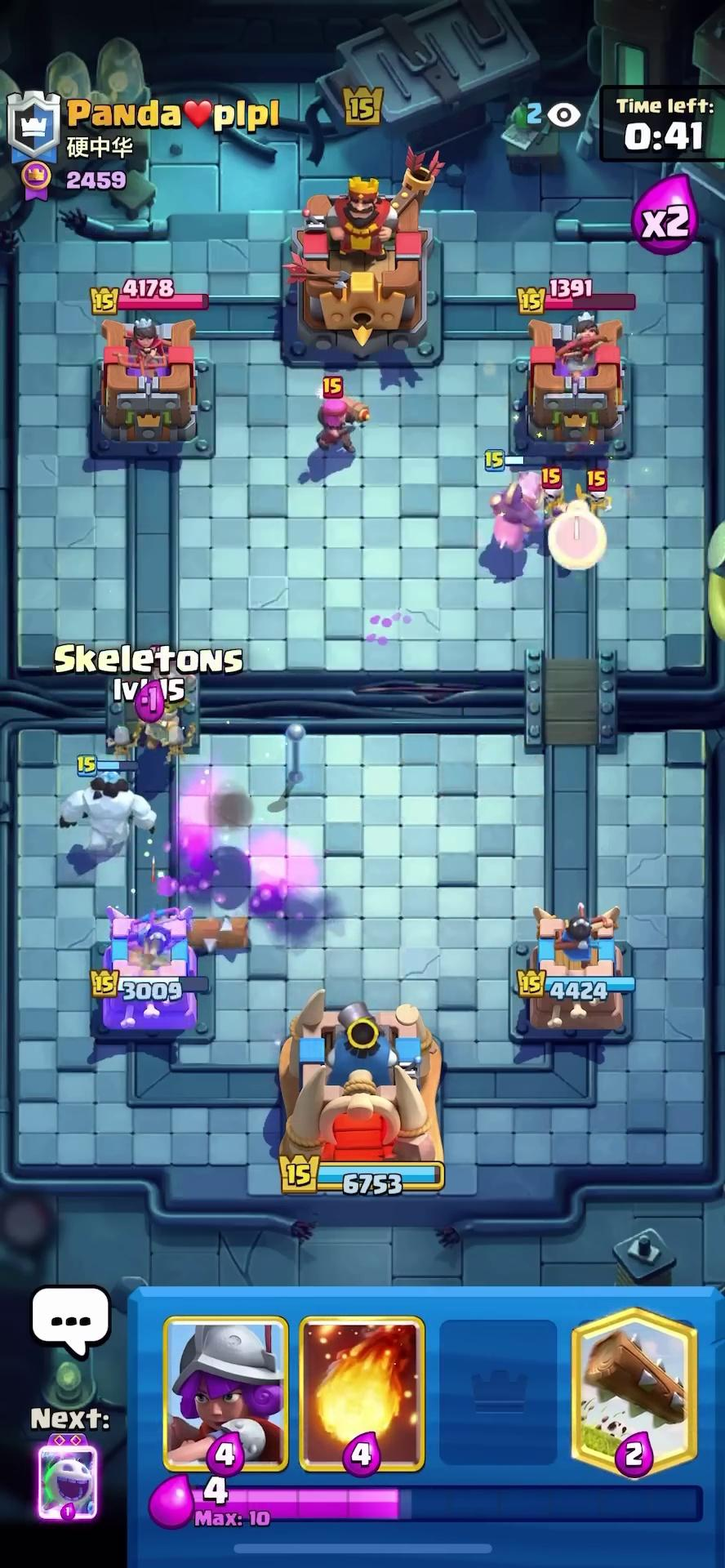hog_rider: (463, 455, 563, 559)
